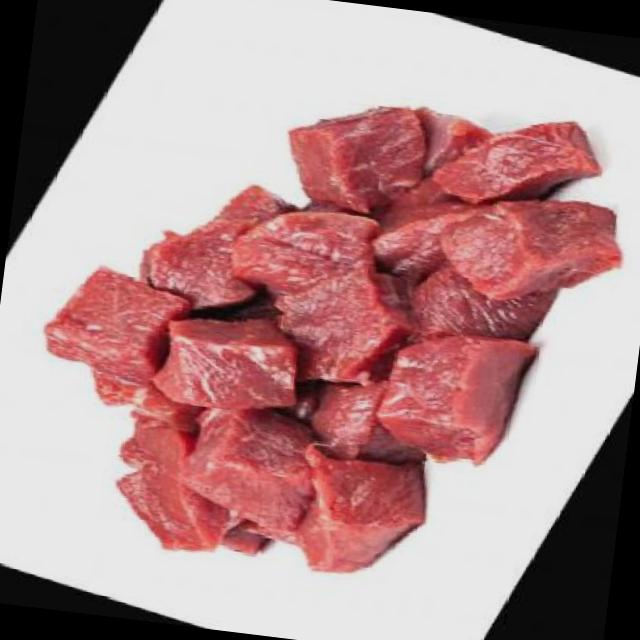beef: (16, 57, 638, 614)
